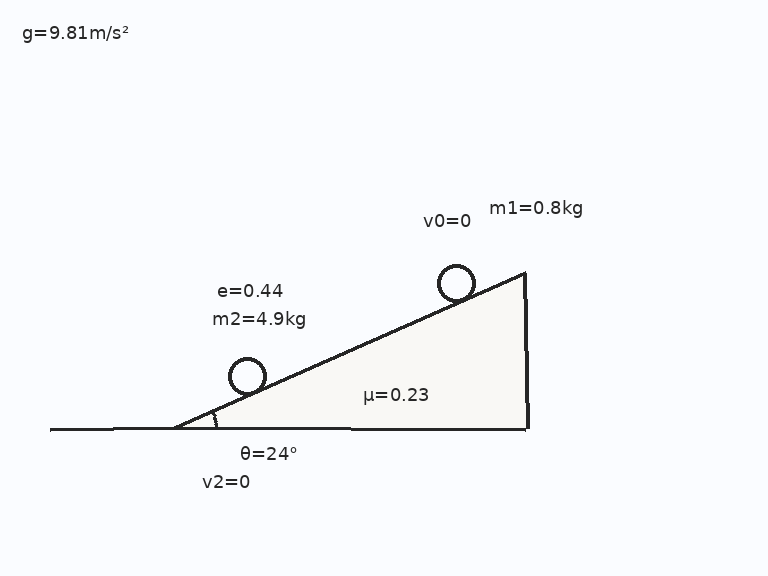ball: (435, 262, 477, 304), (226, 355, 268, 397)
ramp: (174, 270, 528, 430)
